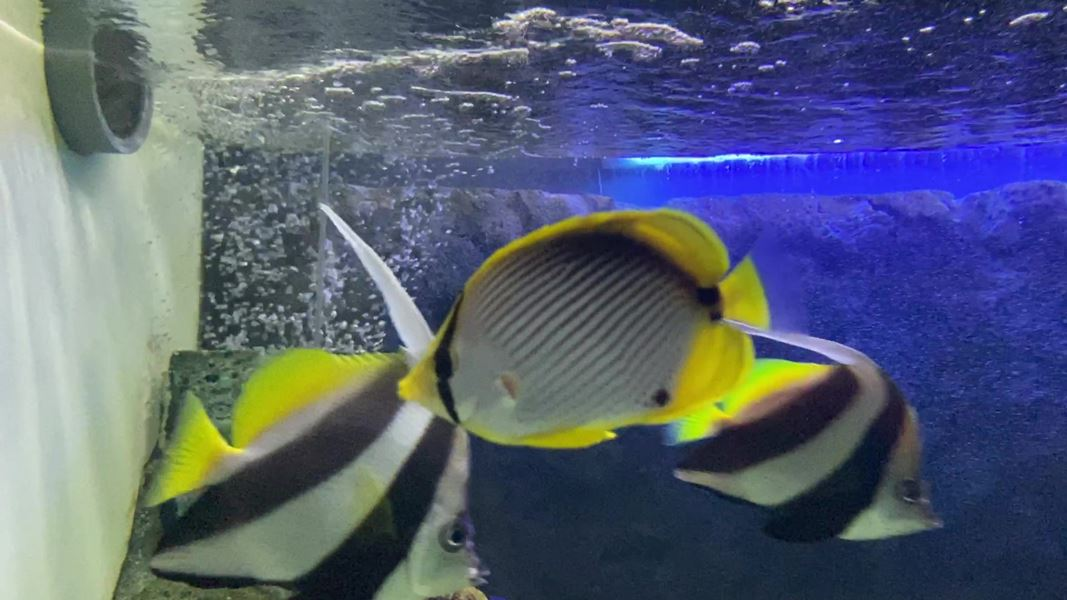Black-backed butterflyfish: (388, 192, 825, 463)
